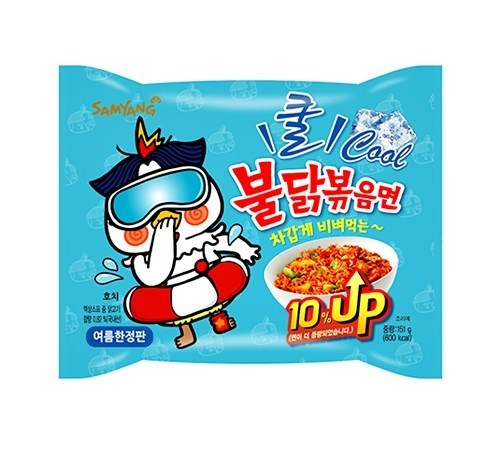Snack: (52, 59, 451, 384)
